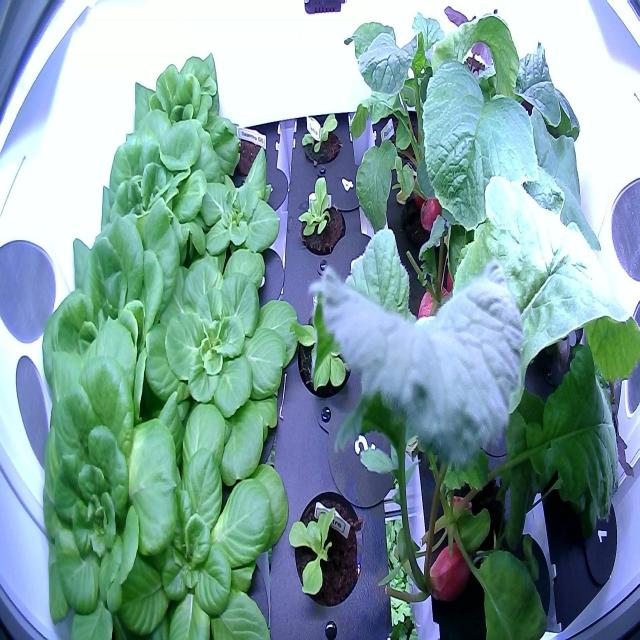Ready: (32, 346, 184, 640), (36, 200, 192, 436), (91, 118, 231, 279), (108, 47, 244, 187)
pod: (227, 117, 270, 190)
young: (131, 230, 306, 490), (111, 396, 292, 638), (173, 146, 285, 287), (285, 470, 367, 619), (288, 285, 362, 412), (296, 171, 348, 259), (296, 98, 348, 173)
